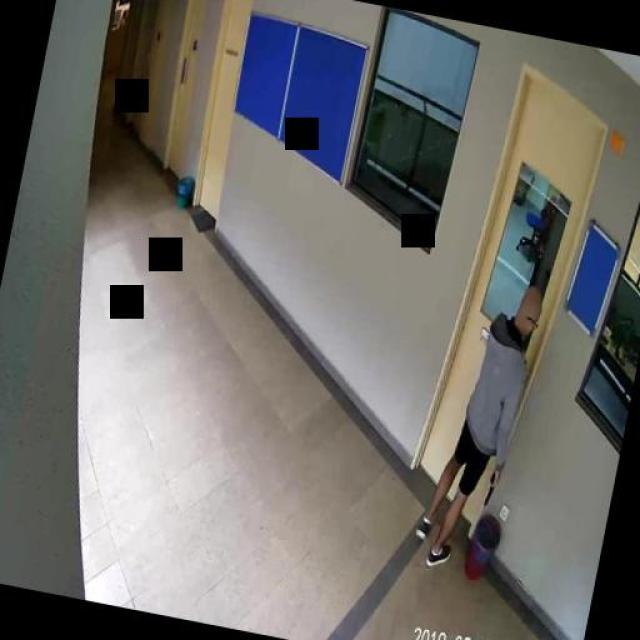gun: (481, 466, 501, 506)
